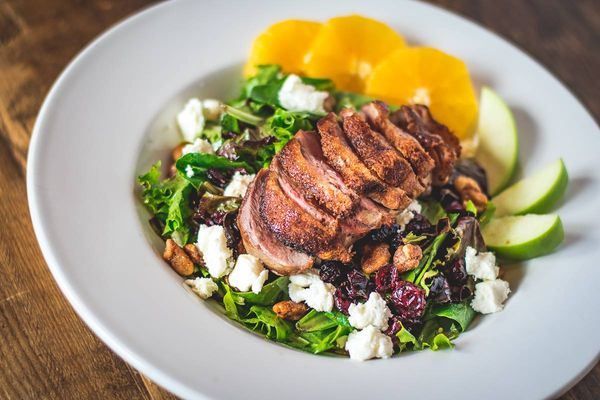curry: (137, 163, 197, 244)
sushi: (26, 5, 553, 394)
taco: (365, 45, 478, 140)
